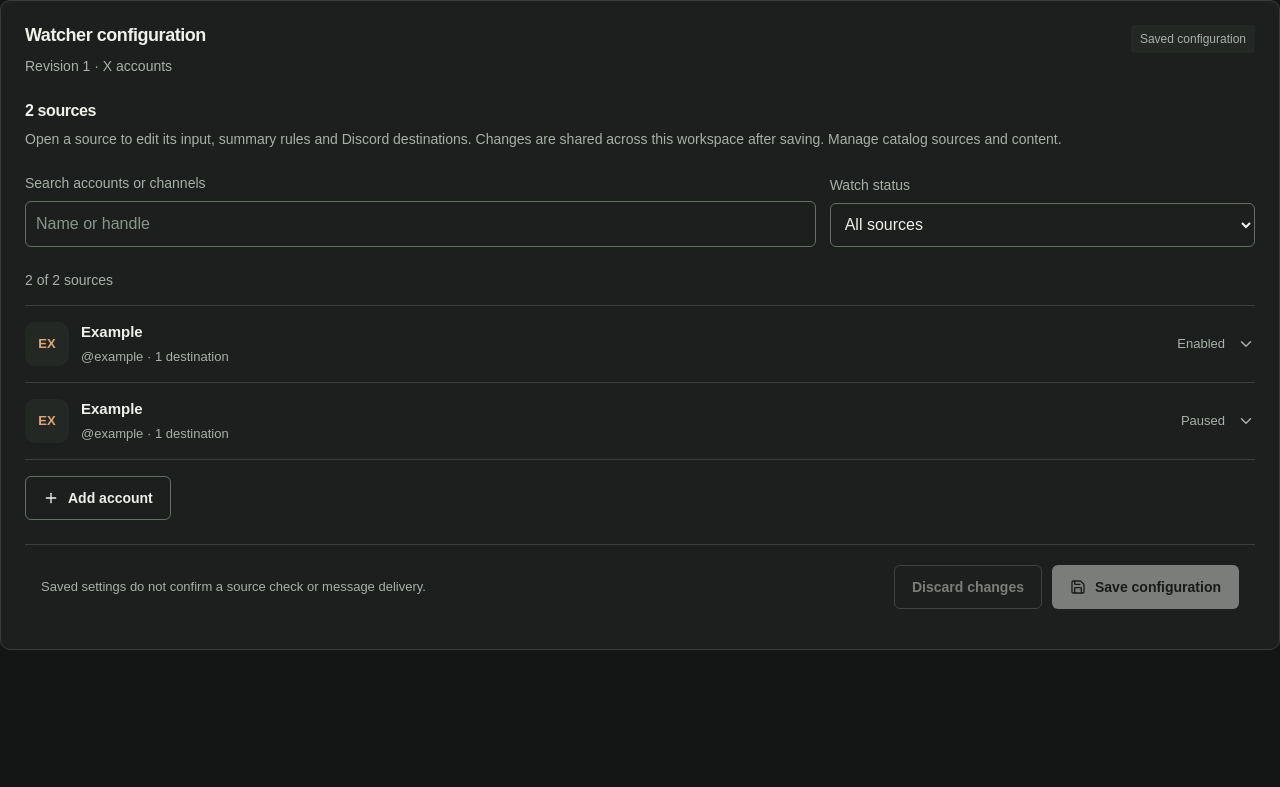
Scenario: rendered watcher controls match the field coverage map › reveals and focuses a new source through the search filter
The image size is (1280, 787).
Type "Example" into the search field at (420, 224), box [25,201,816,247]
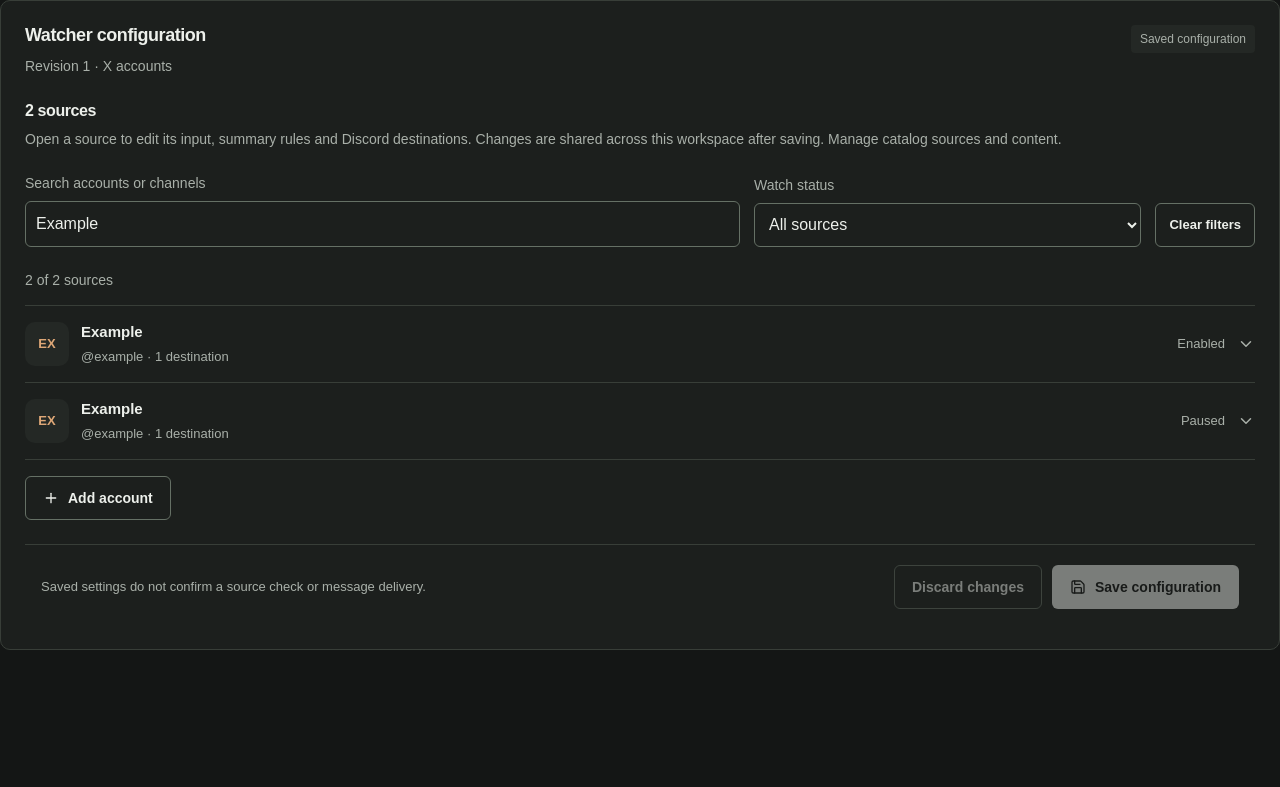
Click the button "Add account" at (98, 498), box [25,476,171,520]
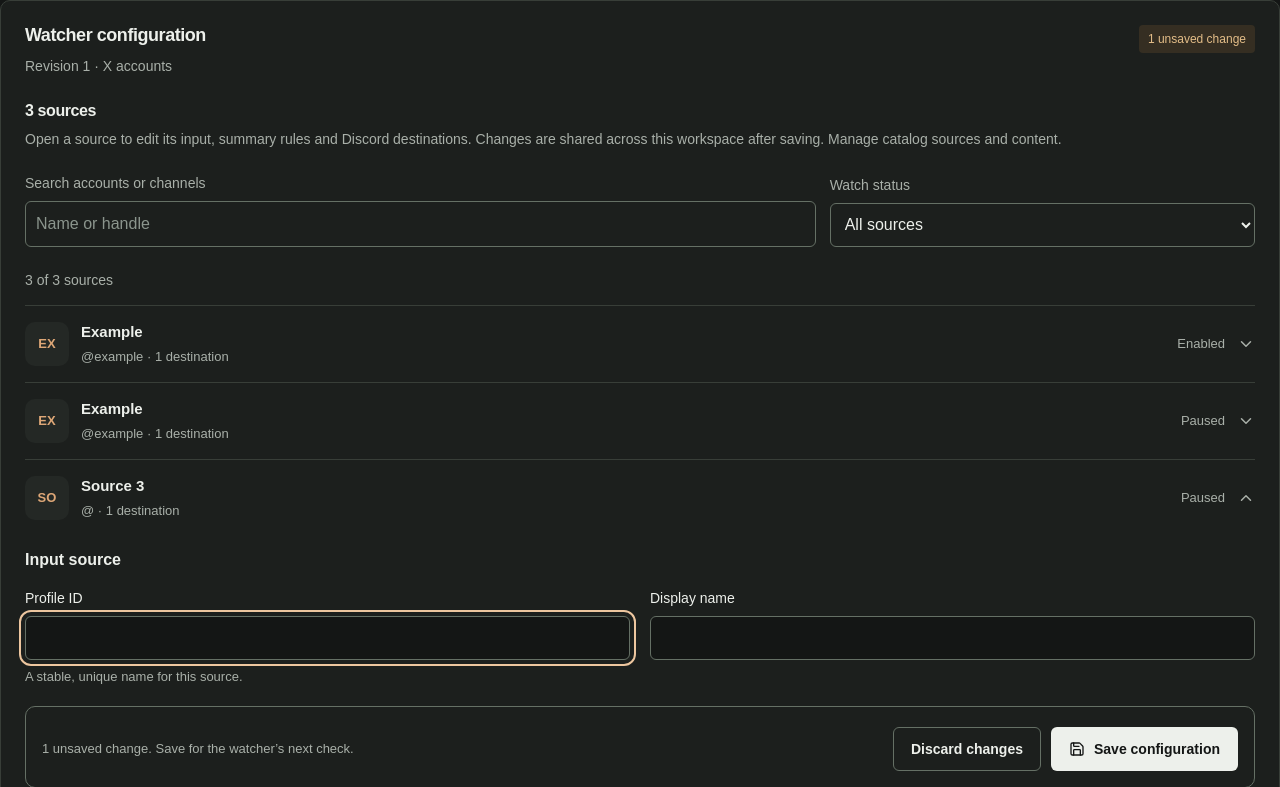
Expected: the dropdown labelled "Watch status" shows "All sources", [830,203,1255,247]
Expected: the search field is empty, [25,201,816,247]
Expected: the text with class "watcher-profile-state" in the row of "Source 3" reads "Paused", [1181,490,1225,505]
